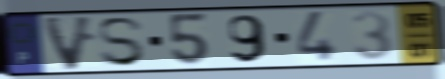3: (351, 8, 393, 64)
4: (294, 9, 339, 66)
5: (166, 12, 211, 69)
9: (227, 13, 268, 65)
S: (95, 15, 148, 69)
V: (39, 14, 98, 73)
